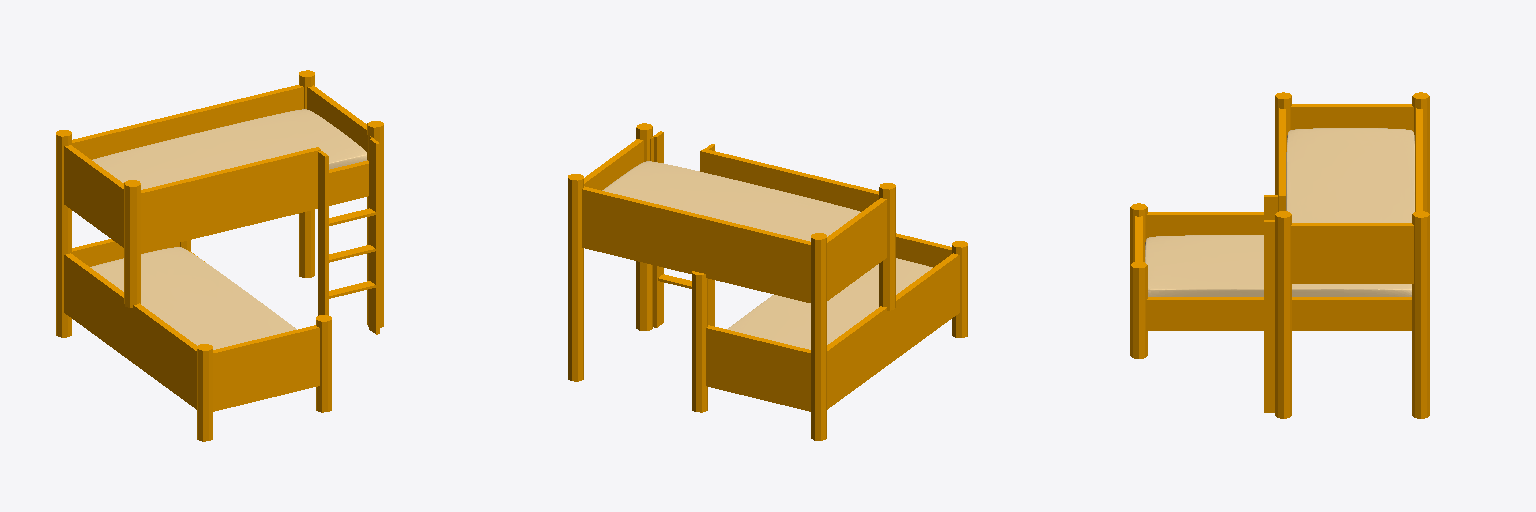
3 renders of one model, left to right at view 1: azimuth 30°, elevation 25°; view 2: azimuth 150°, elevation 25°; view 3: azimuth 270°, elevation 25°, orthographic.
Parts seen in each view (by area): view 1: Bord_7_flyellow_Bord_7_flyellow_flyellow_5, Matelas_1_bone2_Matelas_1_bone2_bone2_14, Matelas_bone2_Matelas_bone2_bone2_13, Bord_2_flyellow_Bord_2_flyellow_flyellow_22, Bord_flyellow_Bord_flyellow_flyellow_17, Bord_4_flyellow_Bord_4_flyellow_flyellow_19, Bord_6_flyellow_Bord_6_flyellow_flyellow_16, Pied_flyellow_Pied_flyellow_flyellow_15, Pied_1_flyellow_Pied_1_flyellow_flyellow_10, Echelle_1_flyellow_Echelle_1_flyellow_flyellow_4, Echelle_flyellow_Echelle_flyellow_flyellow_1, Bord_5_flyellow_Bord_5_flyellow_flyellow_7 (+5 smaller); view 2: Bord_4_flyellow_Bord_4_flyellow_flyellow_19, Matelas_1_bone2_Matelas_1_bone2_bone2_14, Bord_2_flyellow_Bord_2_flyellow_flyellow_22, Bord_1_flyellow_Bord_1_flyellow_flyellow_8, Matelas_bone2_Matelas_bone2_bone2_13, Bord_7_flyellow_Bord_7_flyellow_flyellow_5, Bord_6_flyellow_Bord_6_flyellow_flyellow_16, Pied_flyellow_Pied_flyellow_flyellow_15, Pied_3_flyellow_Pied_3_flyellow_flyellow_11, Pied_6_flyellow_Pied_6_flyellow_flyellow_18, Pied_1_flyellow_Pied_1_flyellow_flyellow_10, Pied_2_flyellow_Pied_2_flyellow_flyellow_20 (+4 smaller); view 3: Matelas_1_bone2_Matelas_1_bone2_bone2_14, Matelas_bone2_Matelas_bone2_bone2_13, Bord_3_flyellow_Bord_3_flyellow_flyellow_6, Bord_5_flyellow_Bord_5_flyellow_flyellow_7, Pied_3_flyellow_Pied_3_flyellow_flyellow_11, Pied_2_flyellow_Pied_2_flyellow_flyellow_20, Bord_6_flyellow_Bord_6_flyellow_flyellow_16, Bord_2_flyellow_Bord_2_flyellow_flyellow_22, Echelle_1_flyellow_Echelle_1_flyellow_flyellow_4, Pied_5_flyellow_Pied_5_flyellow_flyellow_9, Pied_flyellow_Pied_flyellow_flyellow_15, Pied_1_flyellow_Pied_1_flyellow_flyellow_10 (+3 smaller).
Boxes of the visible parts, <box> form: Bord_7_flyellow_Bord_7_flyellow_flyellow_5: <box>141,135,372,251</box>; Matelas_1_bone2_Matelas_1_bone2_bone2_14: <box>92,109,366,189</box>; Matelas_bone2_Matelas_bone2_bone2_13: <box>90,247,296,349</box>; Bord_2_flyellow_Bord_2_flyellow_flyellow_22: <box>64,253,196,409</box>; Bord_flyellow_Bord_flyellow_flyellow_17: <box>213,325,319,411</box>; Bord_4_flyellow_Bord_4_flyellow_flyellow_19: <box>72,85,303,159</box>; Bord_6_flyellow_Bord_6_flyellow_flyellow_16: <box>64,145,123,247</box>; Pied_flyellow_Pied_flyellow_flyellow_15: <box>56,130,71,337</box>; Pied_1_flyellow_Pied_1_flyellow_flyellow_10: <box>124,180,140,307</box>; Echelle_1_flyellow_Echelle_1_flyellow_flyellow_4: <box>369,138,379,334</box>; Echelle_flyellow_Echelle_flyellow_flyellow_1: <box>318,151,328,315</box>; Bord_5_flyellow_Bord_5_flyellow_flyellow_7: <box>307,85,366,151</box>; Bord_4_flyellow_Bord_4_flyellow_flyellow_19: <box>582,186,810,302</box>; Matelas_1_bone2_Matelas_1_bone2_bone2_14: <box>602,161,860,241</box>; Bord_2_flyellow_Bord_2_flyellow_flyellow_22: <box>827,253,959,409</box>; Bord_1_flyellow_Bord_1_flyellow_flyellow_8: <box>706,325,810,411</box>; Matelas_bone2_Matelas_bone2_bone2_13: <box>727,258,932,349</box>; Bord_7_flyellow_Bord_7_flyellow_flyellow_5: <box>650,136,878,211</box>; Bord_6_flyellow_Bord_6_flyellow_flyellow_16: <box>827,198,886,300</box>; Pied_flyellow_Pied_flyellow_flyellow_15: <box>811,233,826,440</box>; Pied_3_flyellow_Pied_3_flyellow_flyellow_11: <box>568,174,583,381</box>; Pied_6_flyellow_Pied_6_flyellow_flyellow_18: <box>692,271,707,412</box>; Pied_1_flyellow_Pied_1_flyellow_flyellow_10: <box>879,183,895,310</box>; Pied_2_flyellow_Pied_2_flyellow_flyellow_20: <box>636,123,652,330</box>; Matelas_1_bone2_Matelas_1_bone2_bone2_14: <box>1286,128,1414,222</box>; Matelas_bone2_Matelas_bone2_bone2_13: <box>1145,235,1411,296</box>; Bord_3_flyellow_Bord_3_flyellow_flyellow_6: <box>1146,297,1411,330</box>; Bord_5_flyellow_Bord_5_flyellow_flyellow_7: <box>1291,223,1413,283</box>; Pied_3_flyellow_Pied_3_flyellow_flyellow_11: <box>1412,211,1429,418</box>; Pied_2_flyellow_Pied_2_flyellow_flyellow_20: <box>1275,211,1291,418</box>; Bord_6_flyellow_Bord_6_flyellow_flyellow_16: <box>1291,104,1413,131</box>; Bord_2_flyellow_Bord_2_flyellow_flyellow_22: <box>1146,212,1263,238</box>; Echelle_1_flyellow_Echelle_1_flyellow_flyellow_4: <box>1264,220,1274,412</box>; Pied_5_flyellow_Pied_5_flyellow_flyellow_9: <box>1130,261,1147,358</box>; Pied_flyellow_Pied_flyellow_flyellow_15: <box>1412,92,1429,213</box>; Pied_1_flyellow_Pied_1_flyellow_flyellow_10: <box>1275,92,1291,211</box>.
Size of the model in its own units: 2.08 by 1.55 by 2.09.